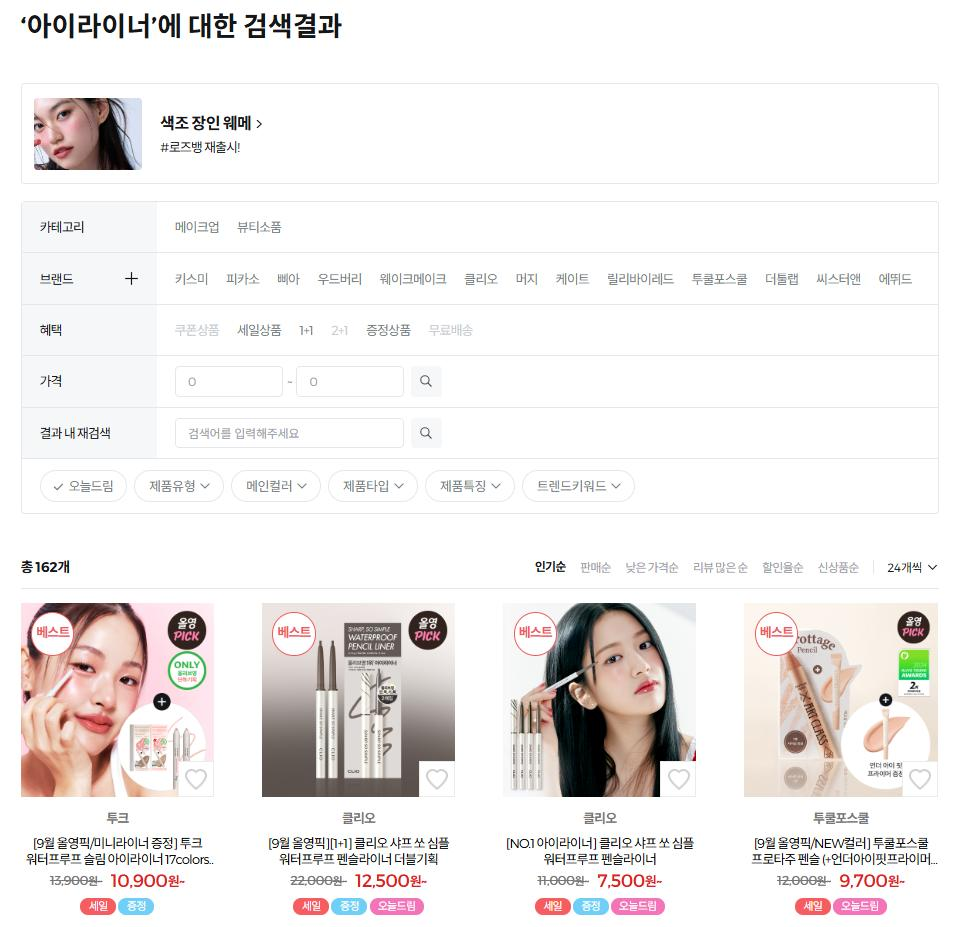button: (601, 263, 682, 289), (688, 264, 757, 289), (170, 317, 229, 345), (417, 761, 460, 799), (627, 554, 687, 581), (377, 267, 454, 287), (812, 263, 870, 289), (361, 316, 418, 341), (657, 759, 694, 797), (314, 263, 368, 289), (528, 556, 582, 581), (171, 214, 222, 239), (757, 554, 812, 577), (234, 319, 289, 341), (424, 317, 474, 341), (904, 759, 938, 794), (814, 556, 865, 579), (234, 216, 289, 237), (554, 264, 598, 290), (173, 263, 215, 290), (180, 763, 214, 796), (463, 266, 504, 291), (692, 558, 752, 575), (760, 267, 808, 287), (580, 551, 618, 576), (410, 366, 440, 397), (878, 266, 915, 291), (225, 264, 264, 287), (414, 417, 440, 446), (276, 264, 304, 289), (327, 318, 353, 342), (514, 271, 544, 289), (120, 267, 143, 290), (294, 321, 323, 339)
checkbox: (524, 466, 637, 502), (426, 469, 513, 504), (328, 471, 420, 502), (134, 469, 223, 501), (37, 471, 125, 501), (232, 472, 322, 501), (881, 552, 943, 579)
input_field: (174, 414, 405, 450), (297, 363, 404, 397), (178, 364, 283, 395)
popup: (22, 81, 938, 182)
